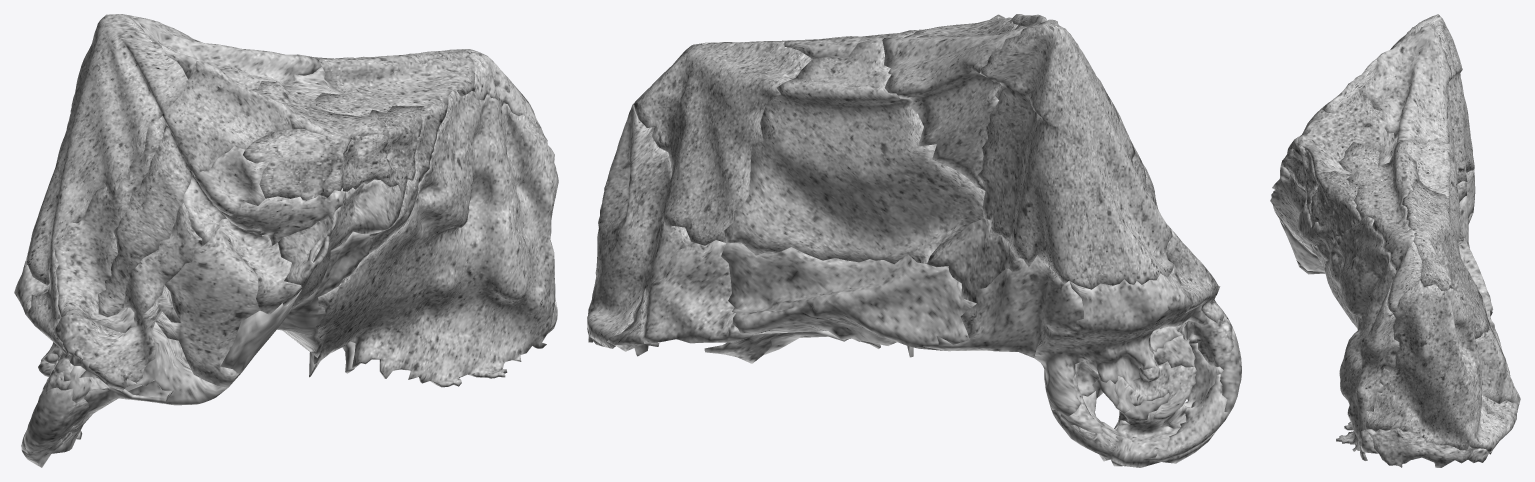
File: Motor03.glb
3 renders of one model, left to right at view 1: azimuth 30°, elevation 25°; view 2: azimuth 150°, elevation 25°; view 3: azimuth 270°, elevation 25°, orthographic. The views are drawn at different scales.
Parts seen in each view (by area): view 1: Mesh_0; view 2: Mesh_0; view 3: Mesh_0.
Part boxes in pixels (x1,y1,x2,y2): Mesh_0: [14, 14, 558, 467]; Mesh_0: [587, 14, 1241, 467]; Mesh_0: [1270, 14, 1520, 467].
Size of the model in its own units: 1.66 by 1.16 by 0.8456.
Materials: 1 (1 with a texture image).
